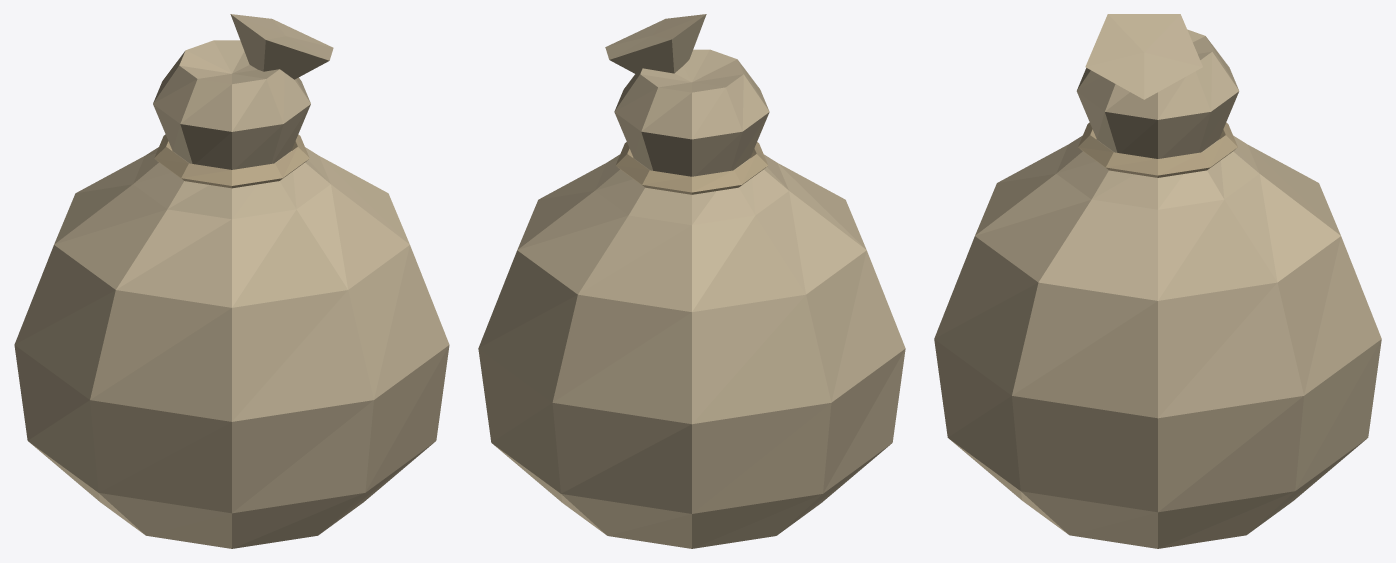
Rendered from sack.glb.
The picture shows the model from 3 angles, left to right: view 1: azimuth 30°, elevation 25°; view 2: azimuth 150°, elevation 25°; view 3: azimuth 270°, elevation 25°; orthographic projection. The views are drawn at different scales.
Visible parts, largest first — view 1: sack; view 2: sack; view 3: sack.
Boxes of the visible parts, x1,y1,x2,y2 form: sack: (14,14,449,548); sack: (478,14,905,548); sack: (934,14,1381,548).
Bounding box in the file's own units: 0.6401 × 0.7814 × 0.65.
